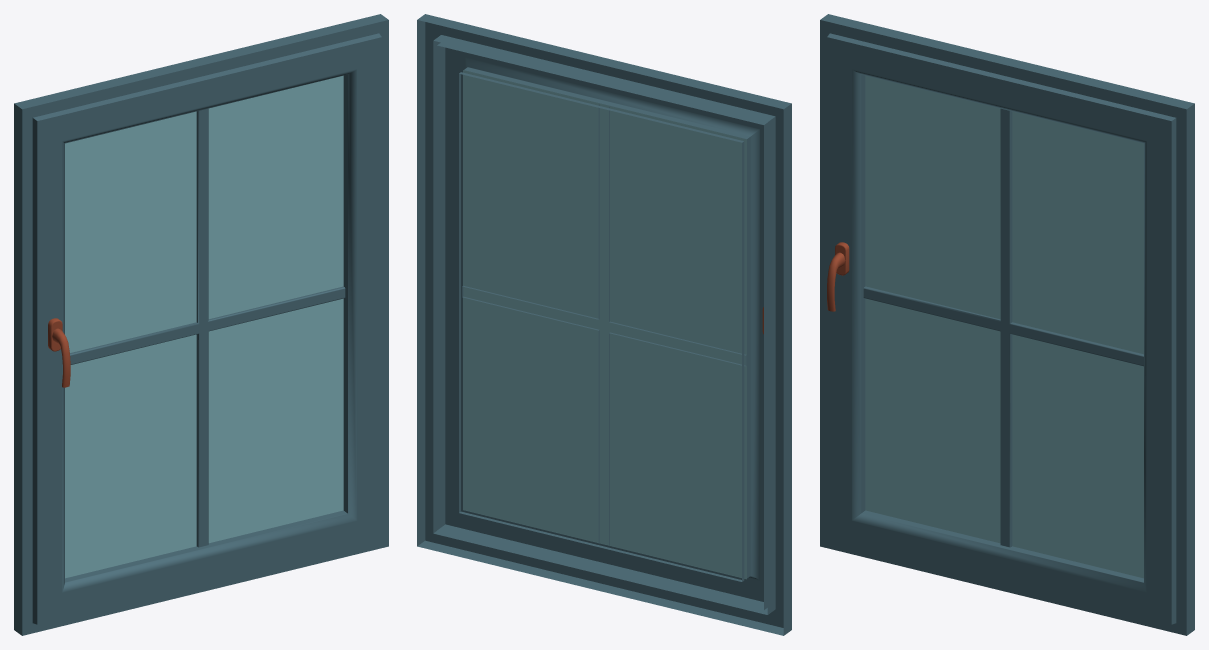
File: window.fbx
The picture shows the model from 3 angles, left to right: view 1: azimuth 30°, elevation 25°; view 2: azimuth 150°, elevation 25°; view 3: azimuth 330°, elevation 25°; orthographic projection.
Visible parts, largest first — view 1: window; view 2: window; view 3: window.
Part boxes in pixels (x1,y1,x2,y2): window: [14, 14, 388, 635]; window: [417, 14, 791, 635]; window: [820, 14, 1194, 635].
Bounding box in the file's own units: 22.18 × 2.74 × 30.45.
